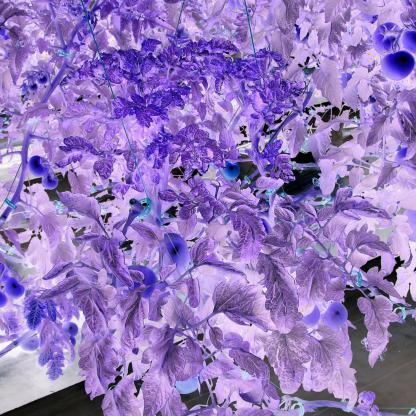Tomato leaf yellow virus: (261, 261, 304, 336), (223, 205, 267, 267), (37, 321, 72, 383), (56, 135, 96, 174), (23, 292, 47, 330), (88, 155, 120, 182), (159, 87, 189, 112), (105, 98, 135, 121), (157, 129, 174, 166), (217, 124, 236, 153), (138, 56, 160, 80), (140, 141, 157, 167), (265, 136, 287, 156), (250, 91, 269, 114), (211, 70, 227, 94), (136, 108, 152, 129), (267, 78, 283, 92)
